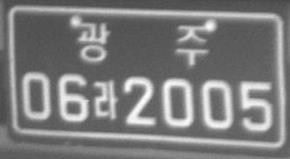0: (199, 77, 235, 131), (160, 76, 196, 129), (20, 70, 53, 122)
2: (121, 74, 157, 128)
5: (239, 80, 275, 133)
6: (56, 72, 91, 123)
광주_D: (74, 19, 211, 67)
라: (93, 78, 119, 121)
